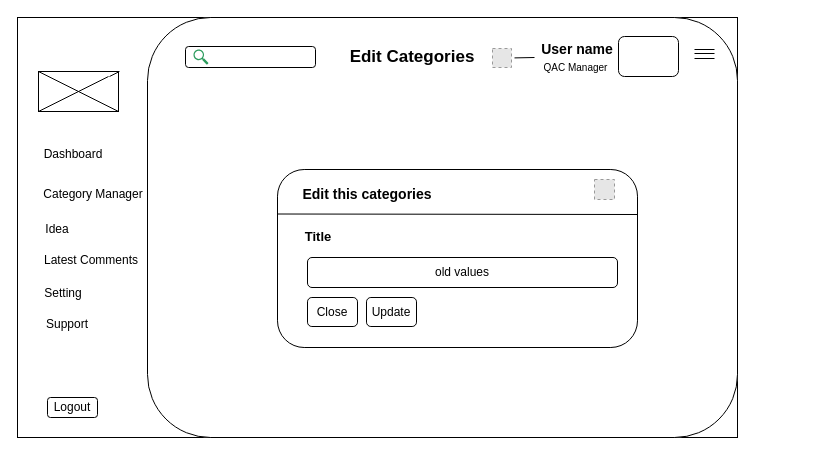
This 833x465 diagram has some shape labels left out. Grey dashed boxes stand in for pictures. The shapes that lost their labels are listed below. From the top down, each one's centre as x and y in pixels, then its label:
At (648,56): "Avatar".
At (78,91): "Logo".
